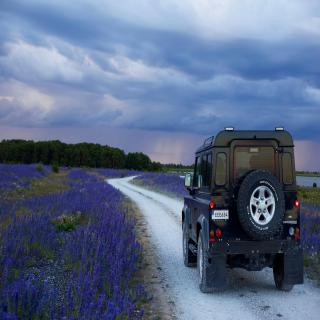Normal_vehicle: (181, 126, 307, 294)
